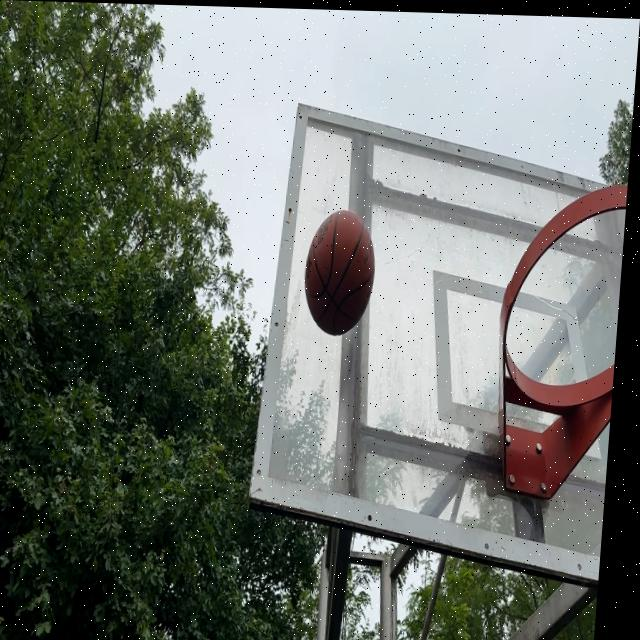rebound_hit: (300, 209, 380, 340)
